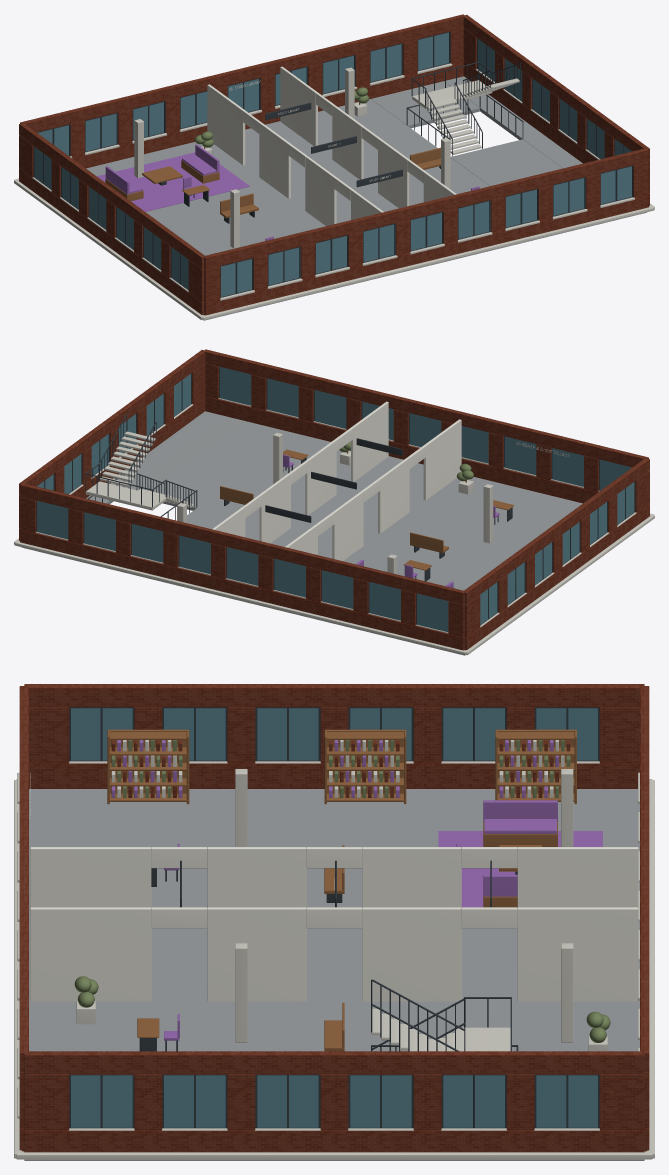
File: SM_LegacyTower_Level04.fbx
The picture shows the model from 3 angles, top to bottom: view 1: azimuth 30°, elevation 25°; view 2: azimuth 150°, elevation 25°; view 3: azimuth 270°, elevation 25°; orthographic projection. The views are drawn at different scales.
Parts seen in each view (by area): view 1: SM_LegacyTower_Level04; view 2: SM_LegacyTower_Level04; view 3: SM_LegacyTower_Level04.
Part boxes in pixels (x1,y1,x2,y2): SM_LegacyTower_Level04: (14, 14, 654, 320); SM_LegacyTower_Level04: (14, 349, 654, 655); SM_LegacyTower_Level04: (14, 684, 654, 1160).
Size of what is drawn, in the model's own units: 2866 by 2066 by 486.
